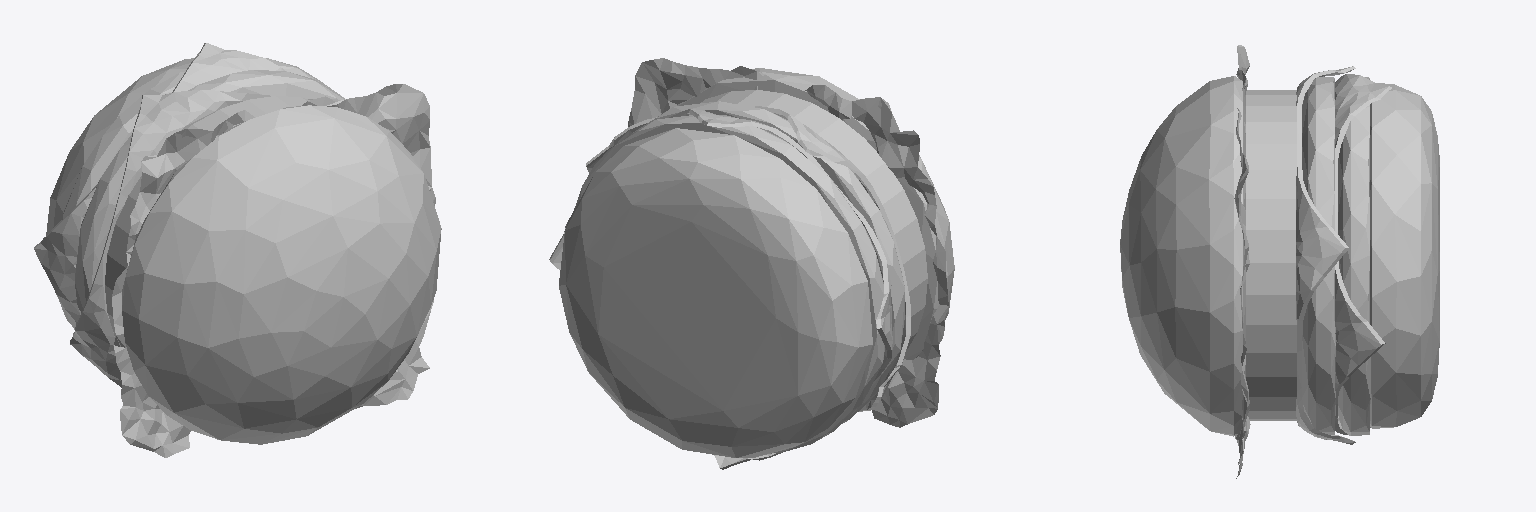
The model's file is Burger.obj.
3 renders of one model, left to right at view 1: azimuth 30°, elevation 25°; view 2: azimuth 150°, elevation 25°; view 3: azimuth 270°, elevation 25°, orthographic.
Visible parts, largest first — view 1: DeathClawSouffle:7; view 2: DeathClawSouffle:7; view 3: DeathClawSouffle:7.
Part boxes in pixels (left/top/right/bottom): DeathClawSouffle:7: left=34, top=43, right=441, bottom=457; DeathClawSouffle:7: left=549, top=58, right=954, bottom=469; DeathClawSouffle:7: left=1120, top=45, right=1439, bottom=478.
Size of the model in its own units: 5.42 by 5.31 by 4.47.